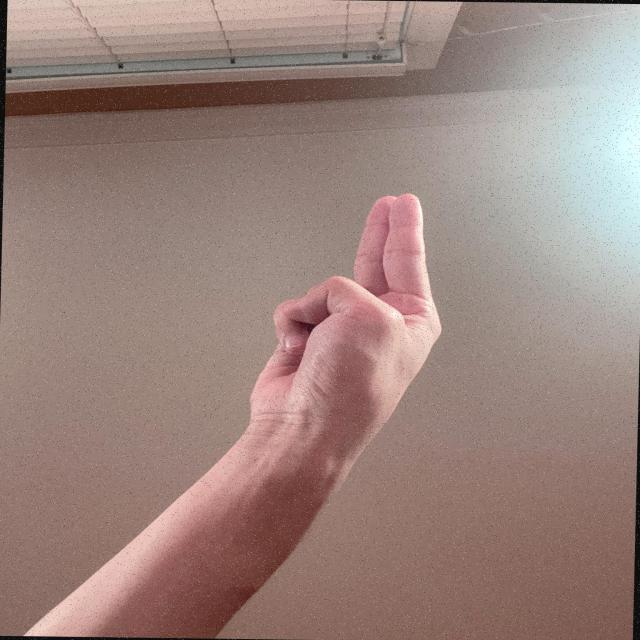U: (232, 186, 449, 474)
